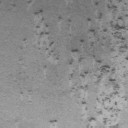oxide scale of temperature system: (86, 0, 128, 128), (68, 48, 88, 117), (34, 8, 59, 62), (87, 0, 107, 52), (58, 14, 62, 30), (50, 119, 57, 128), (28, 0, 36, 7), (80, 39, 84, 43), (68, 18, 71, 22)
